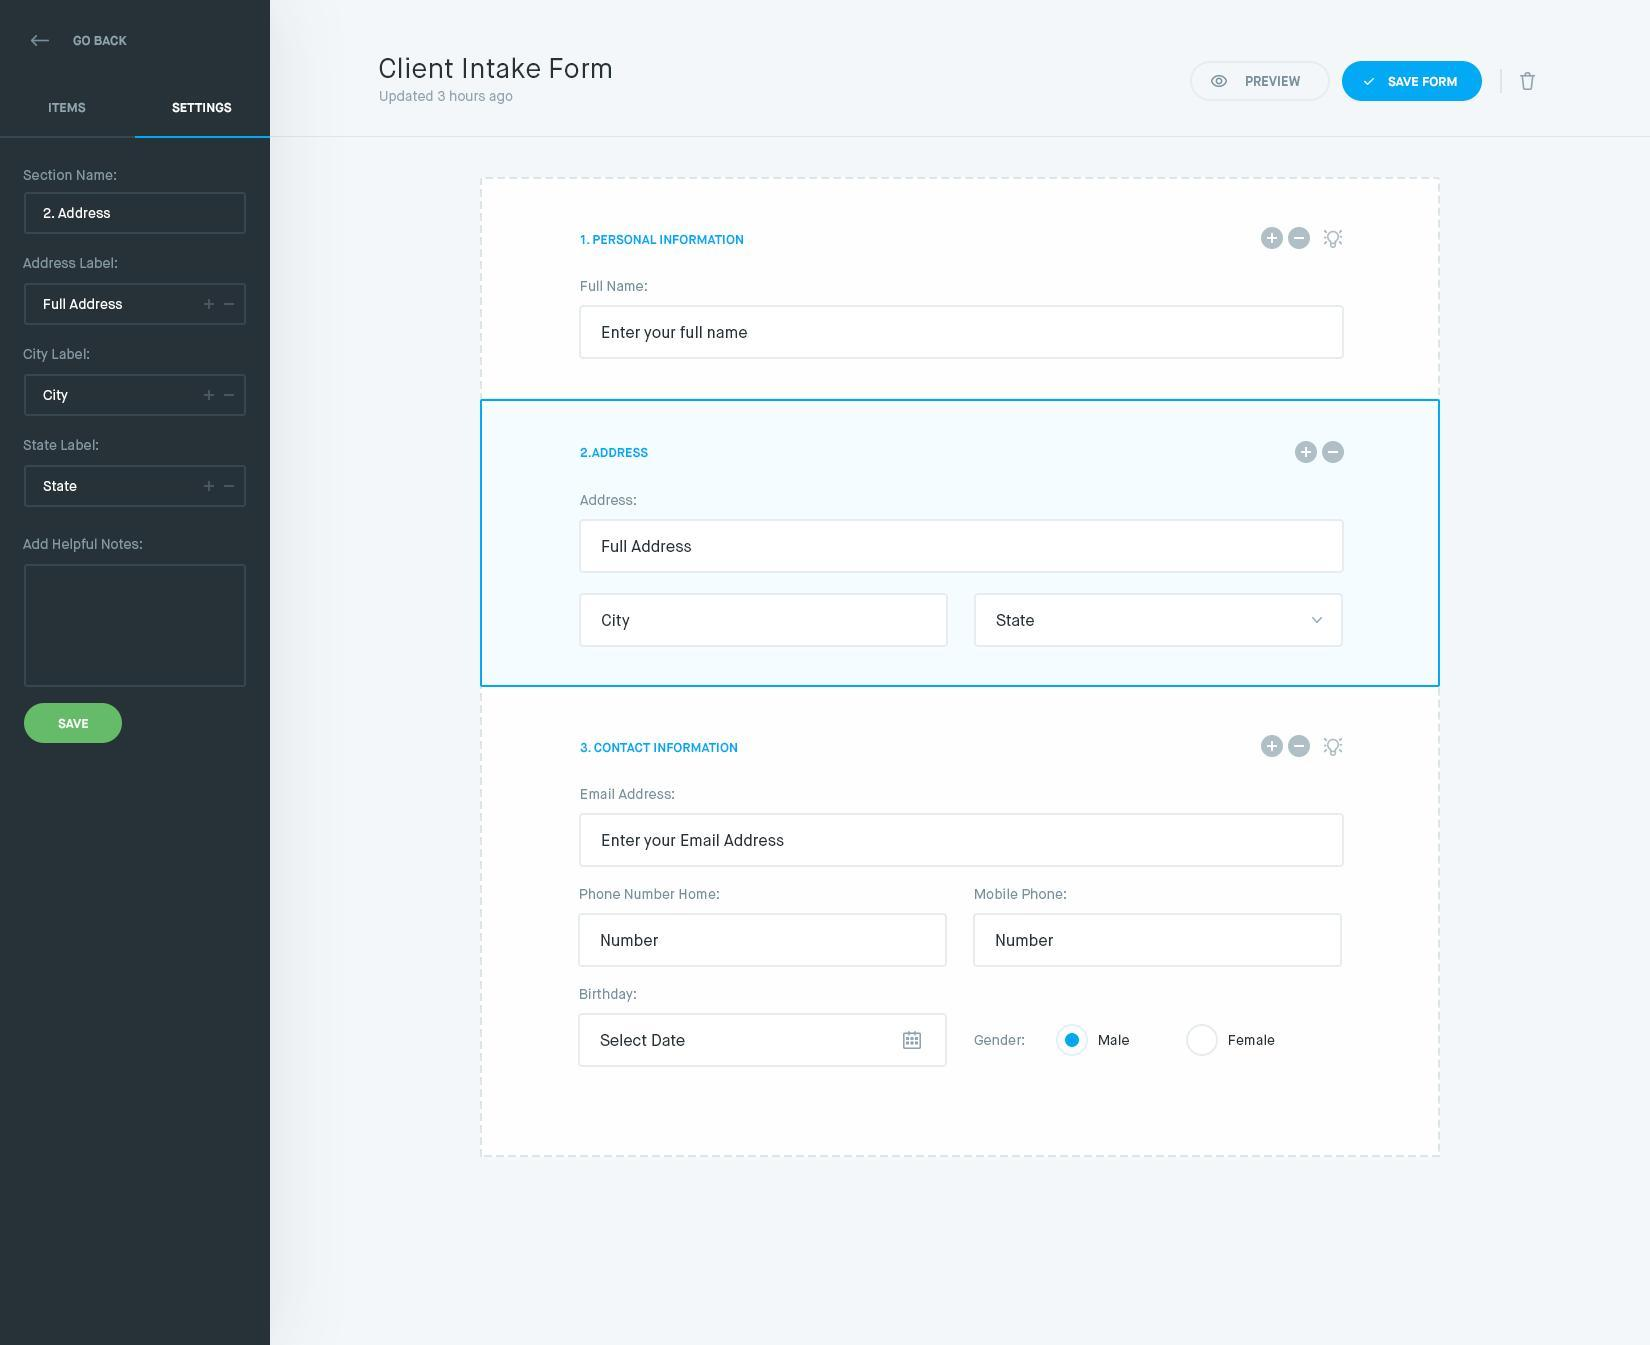button: (1343, 60, 1486, 103), (1188, 60, 1329, 101), (26, 705, 123, 744)
dropdown: (976, 595, 1344, 647)
icon: (1320, 735, 1349, 760), (1287, 226, 1313, 252), (1259, 228, 1285, 251), (1322, 441, 1346, 465), (1322, 229, 1346, 251), (1262, 736, 1284, 760), (1290, 735, 1312, 758), (1296, 441, 1318, 465), (1521, 71, 1538, 95)
input: (581, 520, 1344, 574), (582, 814, 1344, 867), (580, 308, 1344, 359), (974, 916, 1343, 968), (581, 596, 948, 649), (580, 914, 947, 967), (580, 1015, 947, 1067), (25, 466, 247, 509), (25, 193, 247, 234), (26, 284, 247, 325), (26, 377, 247, 417)
label: (578, 226, 748, 250), (22, 533, 151, 557), (576, 883, 730, 902), (576, 784, 678, 808), (21, 252, 119, 274), (970, 883, 1070, 904), (16, 167, 123, 185), (22, 435, 103, 458), (22, 346, 99, 365), (578, 984, 645, 1006), (970, 1028, 1031, 1052), (580, 278, 652, 295), (576, 492, 641, 510), (1225, 1032, 1279, 1049), (1096, 1032, 1133, 1047)
radio: (1185, 1024, 1220, 1058), (1057, 1026, 1089, 1057)
